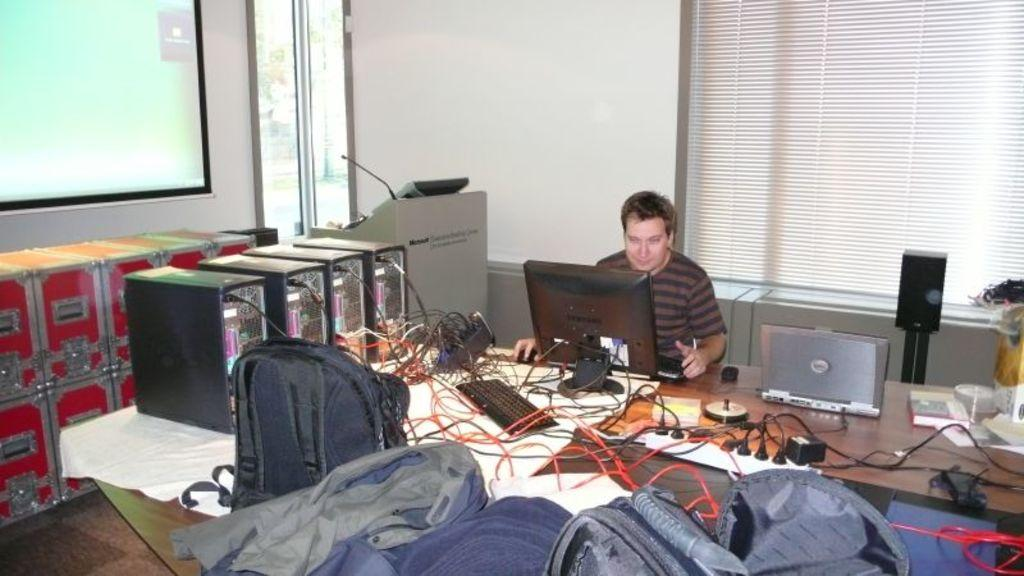Luggage-and-bags: (211, 351, 404, 492), (717, 467, 911, 575), (545, 485, 748, 575), (399, 494, 576, 575)
